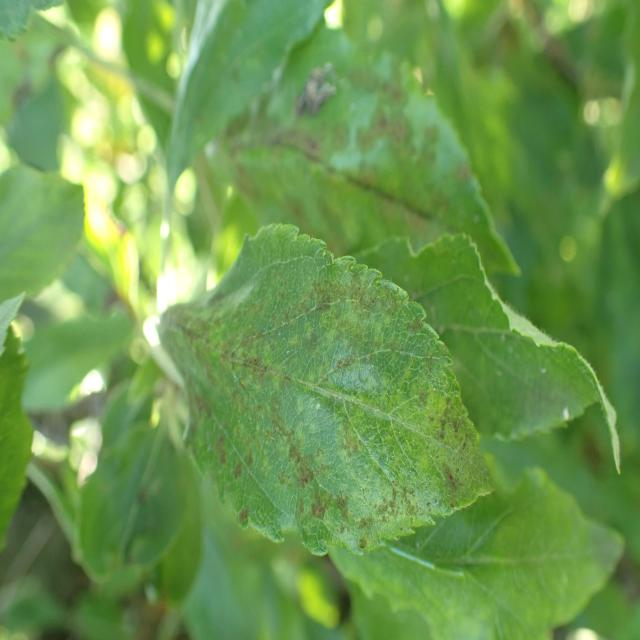scab: (170, 208, 497, 594), (241, 0, 502, 233)
